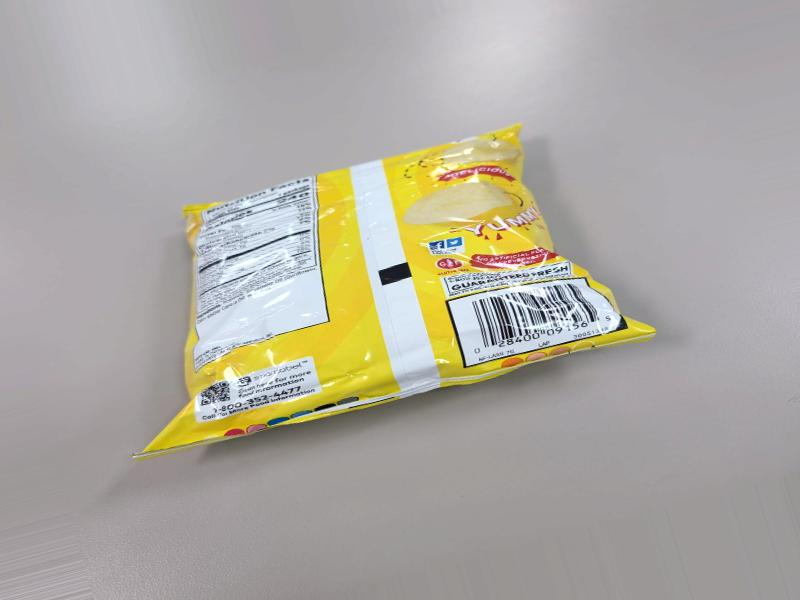lays: (138, 139, 637, 453)
